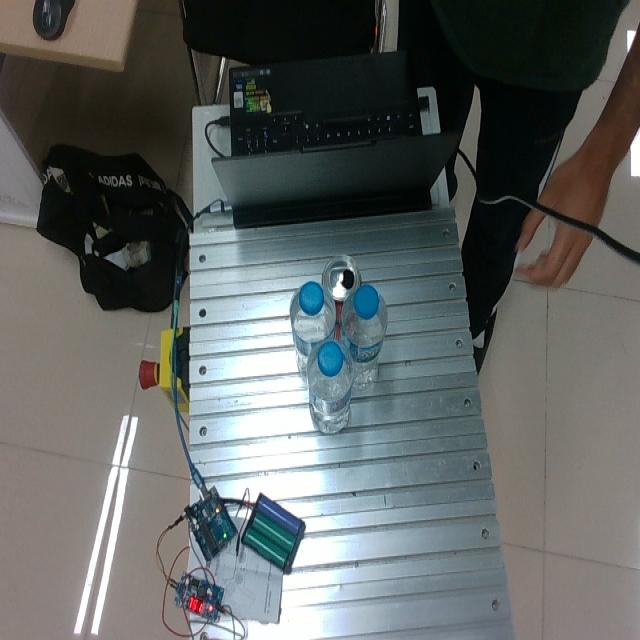coca: (322, 255, 362, 336)
lavie: (341, 285, 388, 391), (290, 282, 337, 378), (307, 340, 355, 433)
